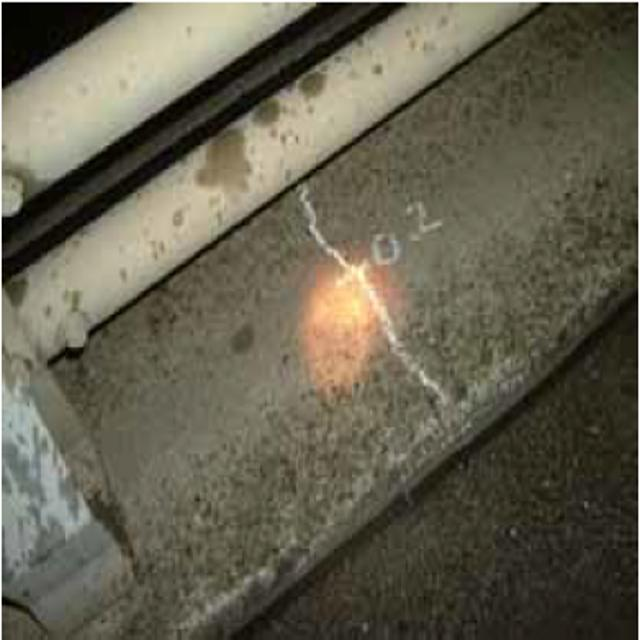crack: (278, 203, 462, 443)
